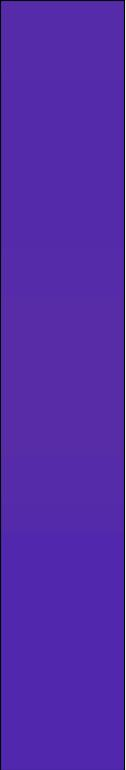safe: (11, 11, 106, 756)
